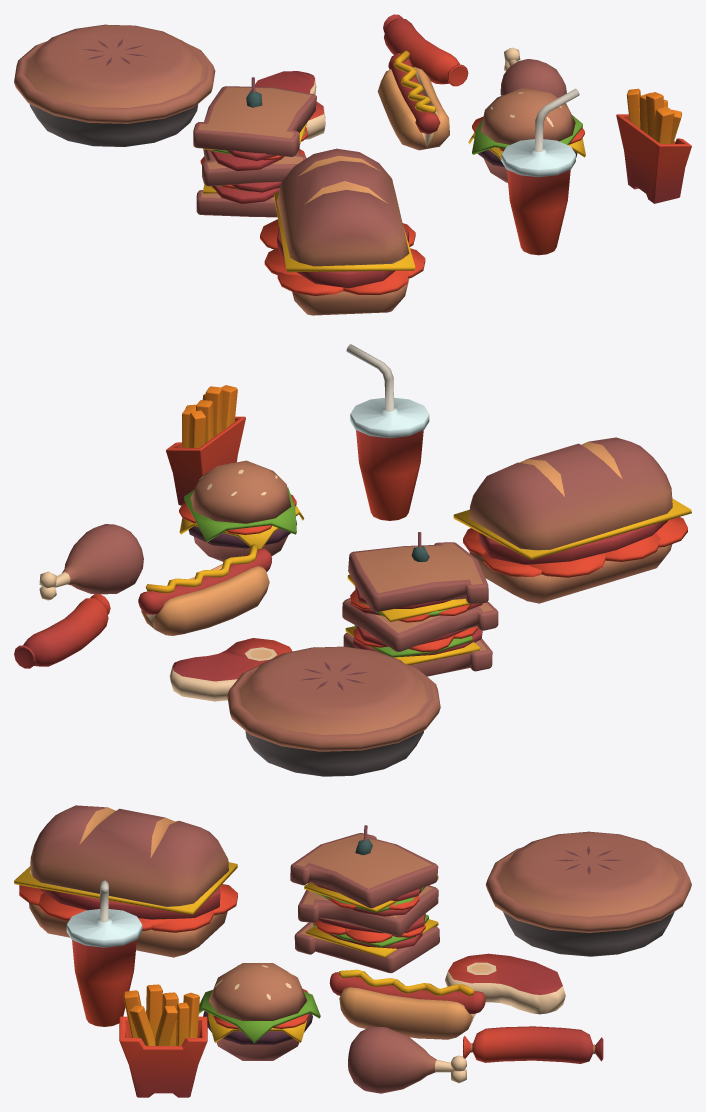
The model's file is Food_01_CT.fbx.
3 renders of one model, top to bottom at view 1: azimuth 30°, elevation 25°; view 2: azimuth 150°, elevation 25°; view 3: azimuth 270°, elevation 25°, orthographic. The views are drawn at different scales.
Visible parts, largest first — view 1: Sandwich.001, Pie.001, Sandwich, Paper Cup, Fries, Hamburguer, Hot Dog, Sausage, Chicken Drum, Steak; view 2: Sandwich.001, Pie.001, Sandwich, Hamburguer, Paper Cup, Hot Dog, Fries, Chicken Drum, Steak, Sausage; view 3: Sandwich.001, Pie.001, Sandwich, Hamburguer, Fries, Hot Dog, Paper Cup, Chicken Drum, Steak, Sausage.
Boxes of the visible parts, x1,y1,x2,y2 form: Sandwich.001: [260, 148, 425, 315]; Pie.001: [14, 24, 215, 146]; Sandwich: [193, 77, 316, 217]; Paper Cup: [501, 88, 579, 255]; Fries: [616, 88, 691, 203]; Hamburguer: [468, 87, 585, 182]; Hot Dog: [377, 50, 449, 150]; Sausage: [383, 14, 468, 86]; Chicken Drum: [500, 47, 566, 97]; Steak: [255, 71, 325, 139]; Sandwich.001: [453, 437, 691, 603]; Pie.001: [227, 646, 440, 776]; Sandwich: [342, 532, 498, 676]; Hamburguer: [179, 460, 304, 561]; Paper Cup: [346, 344, 429, 520]; Hot Dog: [138, 544, 271, 635]; Fries: [166, 385, 245, 505]; Chicken Drum: [39, 524, 143, 600]; Steak: [169, 638, 292, 701]; Sausage: [14, 594, 110, 668]; Sandwich.001: [14, 805, 237, 957]; Pie.001: [485, 831, 691, 956]; Sandwich: [290, 825, 439, 973]; Hamburguer: [199, 963, 320, 1060]; Fries: [119, 984, 207, 1097]; Hot Dog: [329, 969, 485, 1039]; Paper Cup: [66, 880, 142, 1026]; Chicken Drum: [348, 1026, 466, 1093]; Steak: [445, 953, 565, 1014]; Sausage: [463, 1026, 603, 1063].
Bounding box in the file's own units: 1260 × 433 × 1675.
